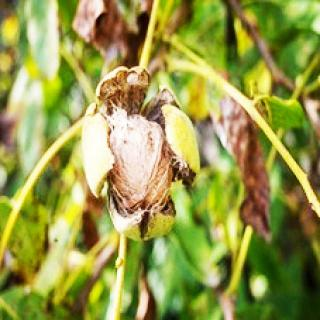leaf spot: (77, 58, 212, 235)
